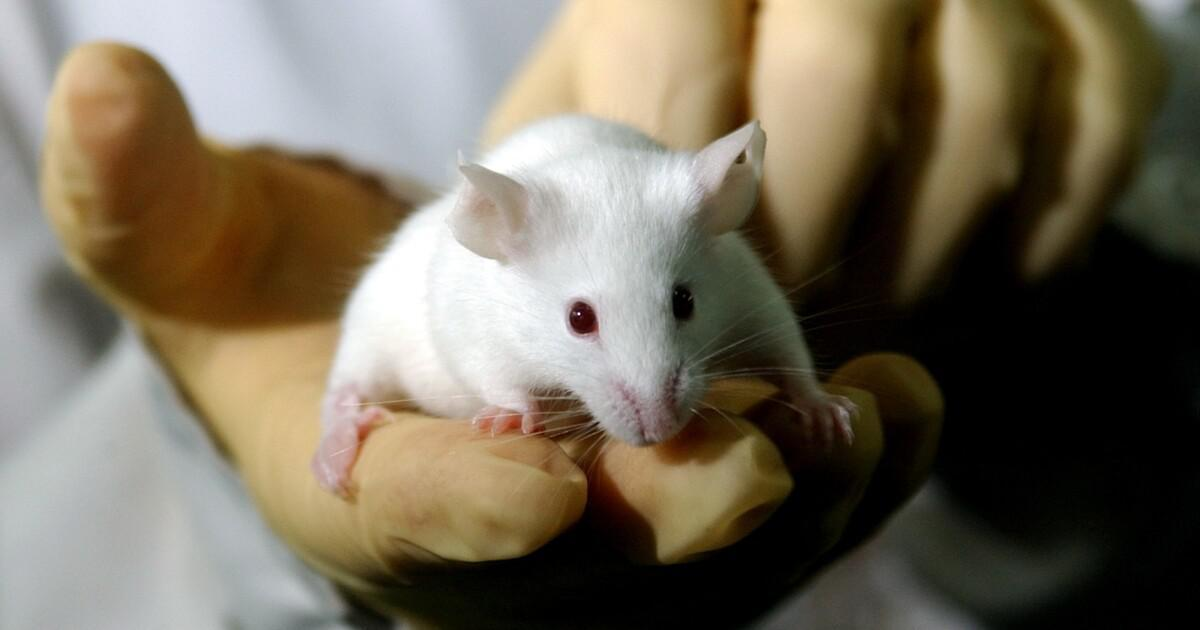rat: (308, 118, 864, 501)
